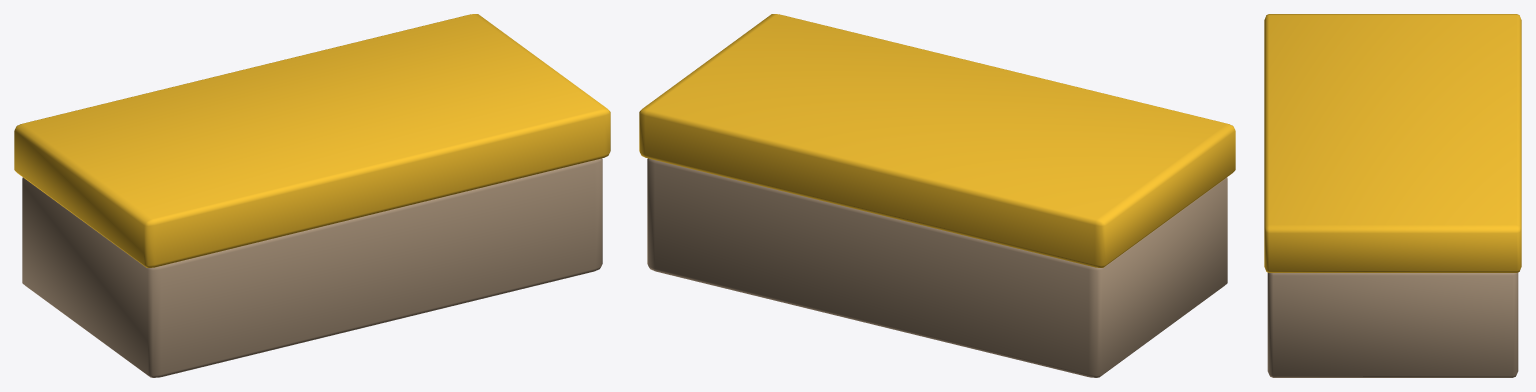
Rendered from ServingStation2.fbx.
3 renders of one model, left to right at view 1: azimuth 30°, elevation 25°; view 2: azimuth 150°, elevation 25°; view 3: azimuth 270°, elevation 25°, orthographic. The views are drawn at different scales.
Parts seen in each view (by area): view 1: ServingStation; view 2: ServingStation; view 3: ServingStation.
Part boxes in pixels (x1,y1,x2,y2): ServingStation: (14, 14, 610, 377); ServingStation: (639, 14, 1235, 377); ServingStation: (1264, 14, 1521, 377).
Size of the model in its own units: 2 by 0.664 by 1.
